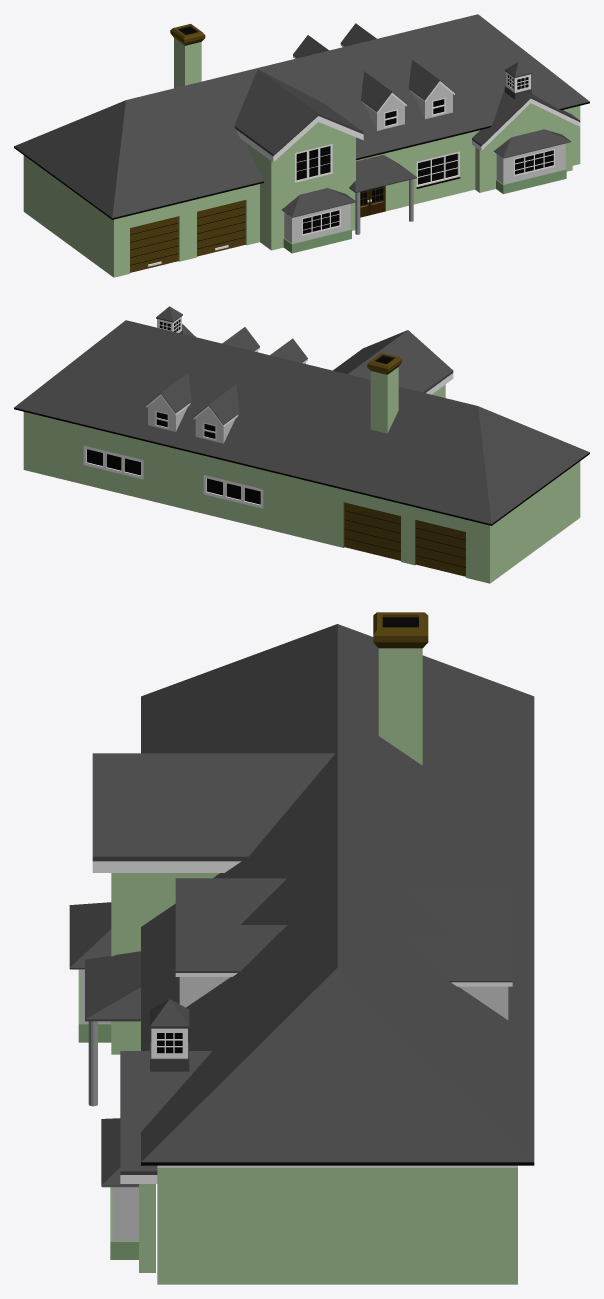
The model's file is House-15-b.fbx.
The picture shows the model from 3 angles, top to bottom: view 1: azimuth 30°, elevation 25°; view 2: azimuth 150°, elevation 25°; view 3: azimuth 270°, elevation 25°; orthographic projection. The views are drawn at different scales.
Parts seen in each view (by area): view 1: House; view 2: House; view 3: House.
Boxes of the visible parts, bbox=[...] form: House: bbox=[14, 14, 589, 277]; House: bbox=[14, 306, 589, 583]; House: bbox=[69, 612, 534, 1284].
Size of what is drawn, in the model's own units: 27.31 by 9.29 by 11.5.
